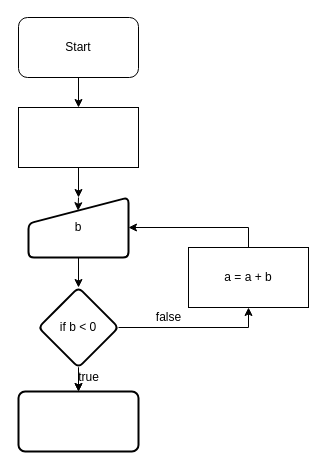
The diagram is 326 pixels wide and 470 high, and some of its shapes have lost their labels. Here are the shapes that lost their labels. From the top down, the centre of each, then its label:
the point at 78,137: a = 0
the point at 78,421: print a
